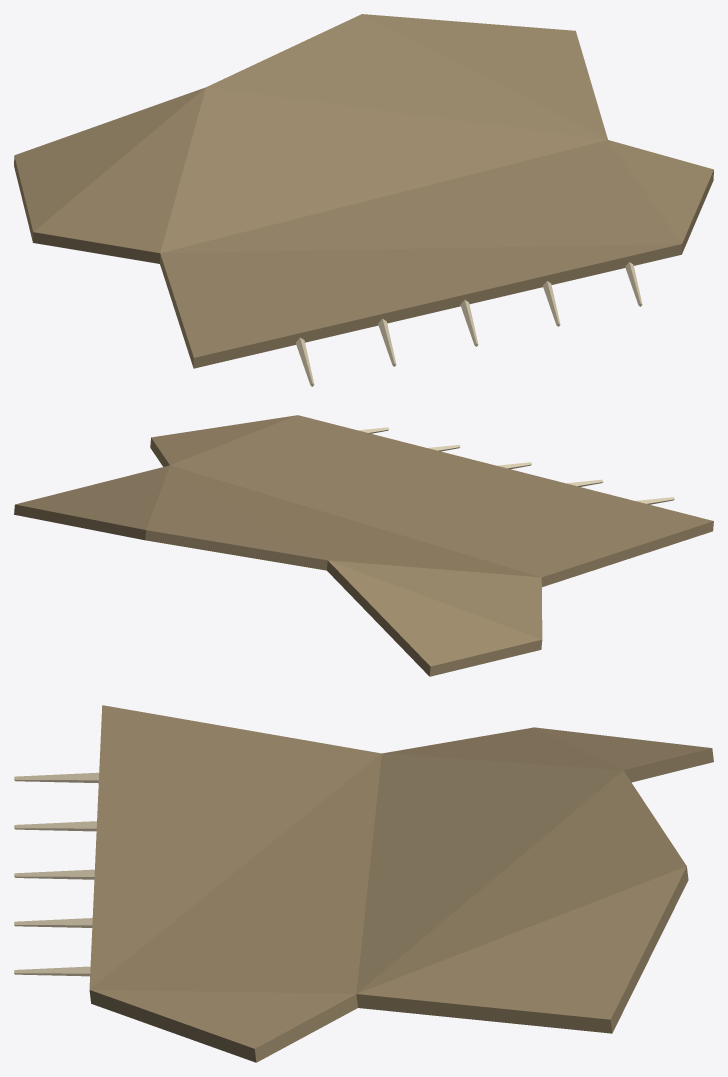
Rendered from Ragged_Cloth.glb.
The picture shows the model from 3 angles, top to bottom: view 1: azimuth 30°, elevation 25°; view 2: azimuth 150°, elevation 25°; view 3: azimuth 270°, elevation 25°; orthographic projection. The views are drawn at different scales.
Visible parts, largest first — view 1: Ragged_Cloth; view 2: Ragged_Cloth; view 3: Ragged_Cloth.
Part boxes in pixels (x1,y1,x2,y2): Ragged_Cloth: [14, 14, 713, 386]; Ragged_Cloth: [14, 415, 713, 676]; Ragged_Cloth: [14, 705, 713, 1062].
Bounding box in the file's own units: 0.6504 × 0.0939 × 0.5507.
